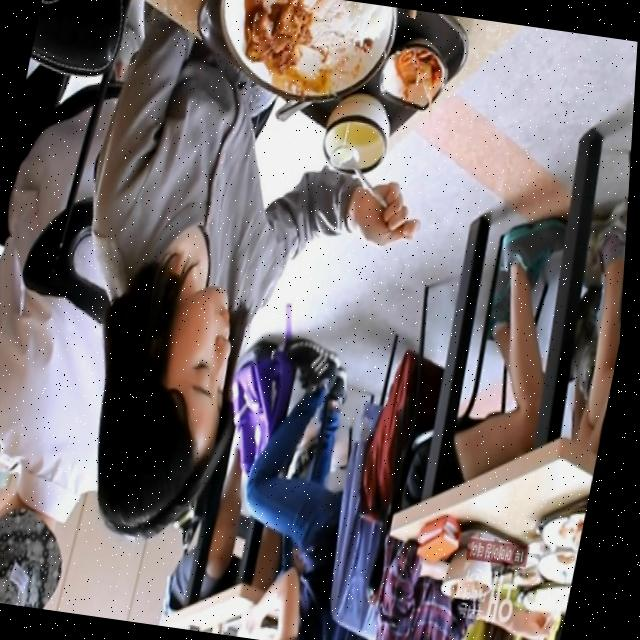eating-person: (25, 0, 474, 586)
